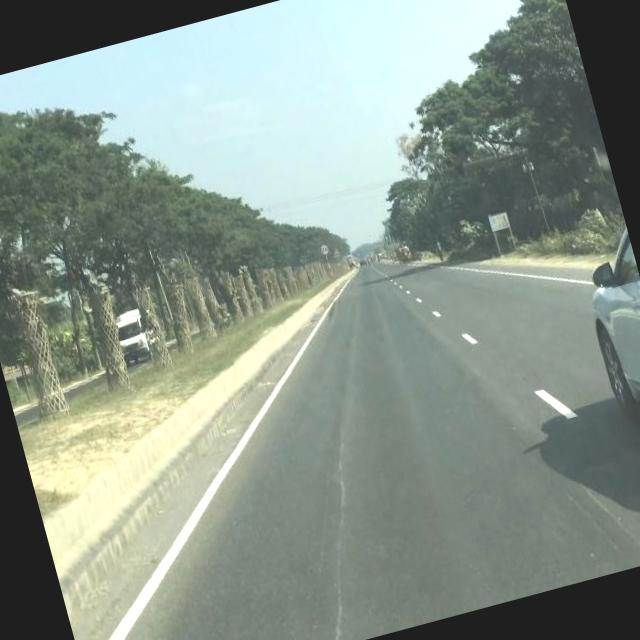bus: (111, 304, 152, 366)
motorcycle: (399, 242, 415, 264)
truck: (357, 248, 368, 265), (346, 250, 357, 266)
